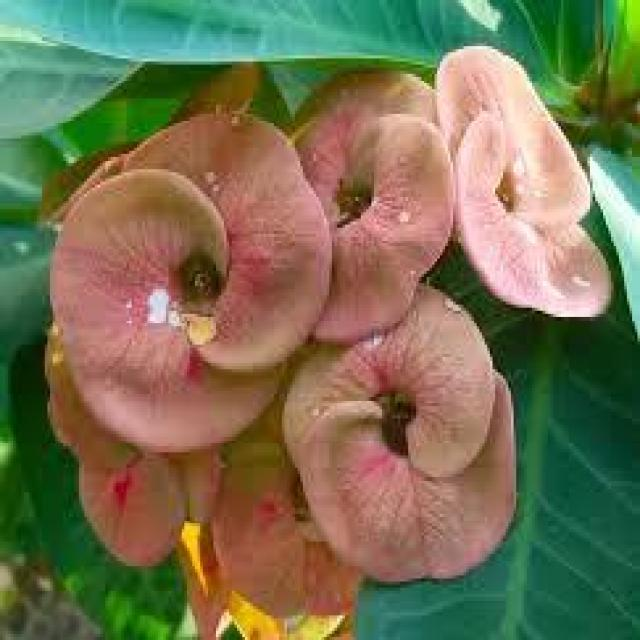organic waste: (46, 108, 331, 462), (271, 280, 535, 585), (212, 63, 452, 337), (430, 37, 618, 335)
